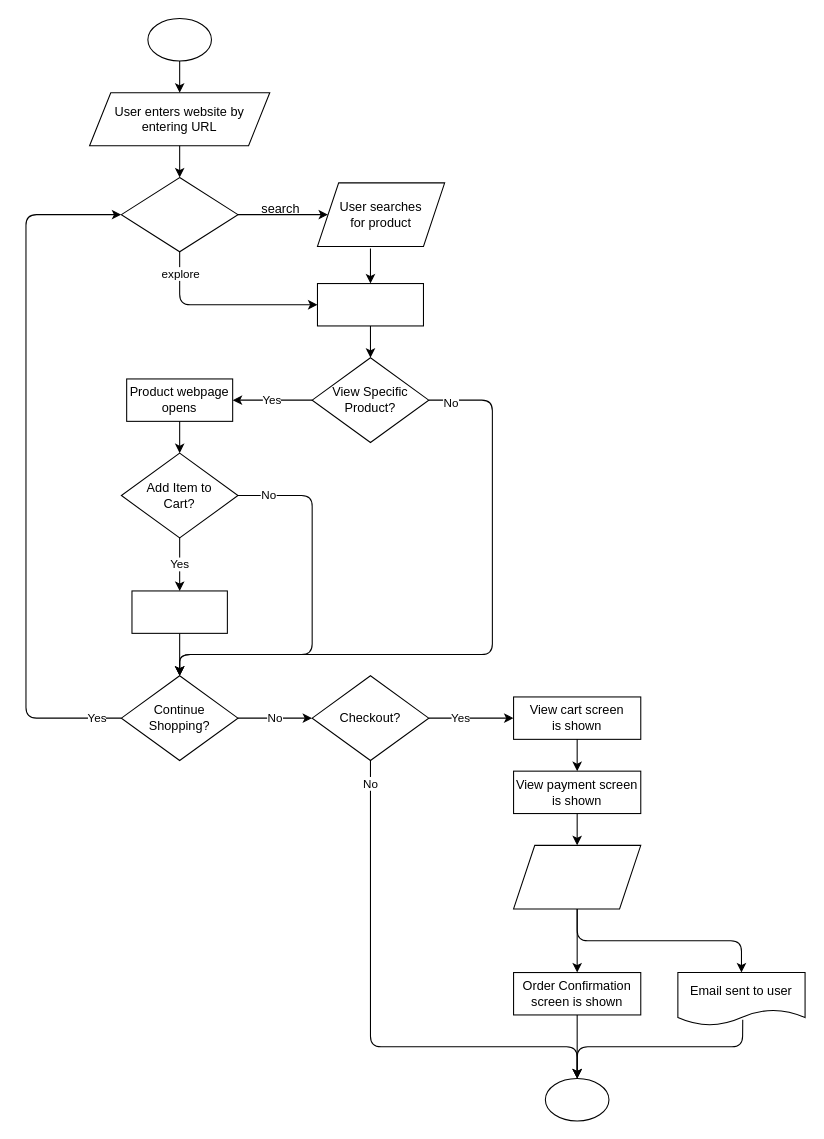
The diagram is 824 pixels wide and 1139 high, and some of its shapes have lost their labels. Here are the shapes that lost their labels. From the top down, the centre of each, then its label:
point 179,39: Start
point 179,214: Option to search or explore
point 369,304: User looks over products
point 179,611: Item added to cart
point 577,876: User enters payment info
point 576,1099: Done
